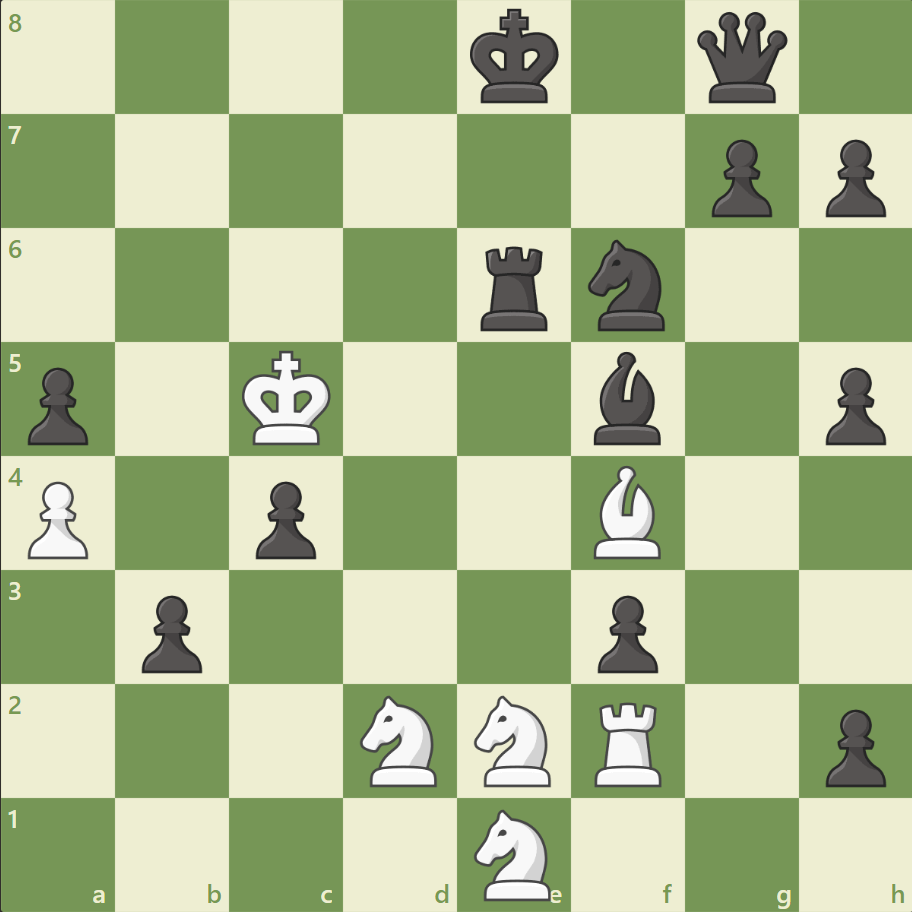B: (585, 460, 669, 563)
K: (238, 344, 338, 452)
N: (351, 688, 449, 791), (465, 688, 562, 791), (465, 802, 562, 904)
P: (20, 473, 95, 564)
R: (587, 693, 670, 790)
b: (585, 347, 669, 449)
k: (465, 4, 565, 112)
n: (579, 234, 676, 337)
p: (701, 132, 776, 223), (20, 359, 95, 450), (247, 473, 322, 564), (133, 586, 208, 677), (815, 132, 889, 223), (815, 359, 889, 450), (588, 586, 662, 677), (815, 700, 889, 791)
q: (691, 9, 790, 108)
r: (473, 239, 556, 336)
